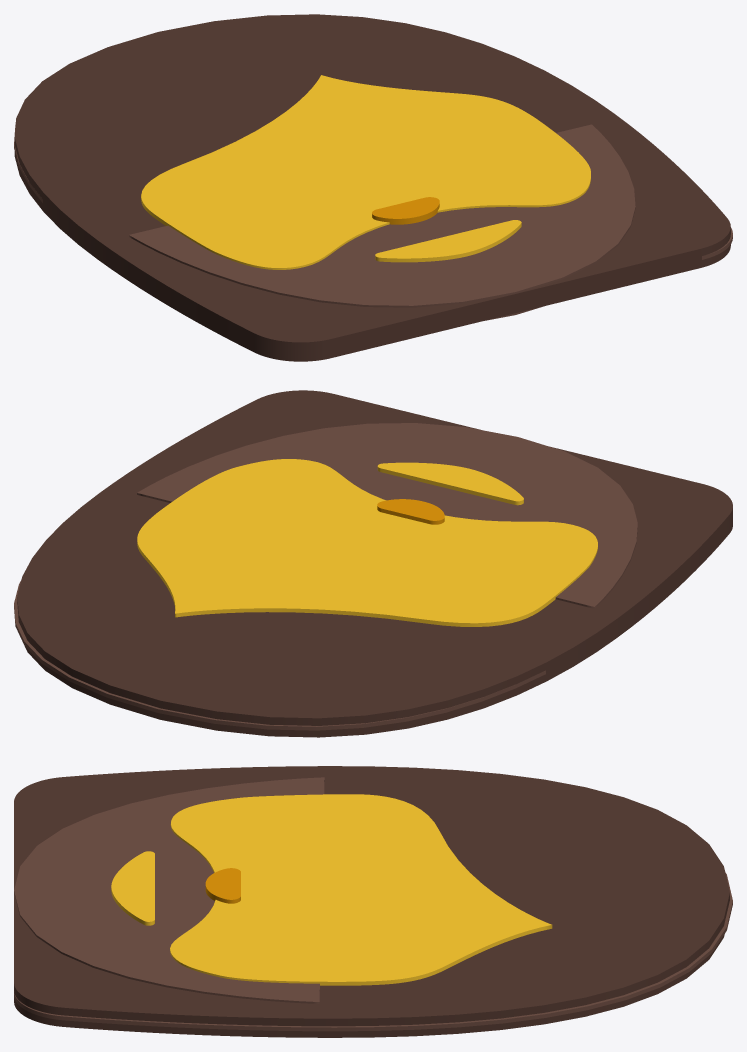
The model's file is emoji_u1f9d4_200d_2640.glb.
The picture shows the model from 3 angles, top to bottom: view 1: azimuth 30°, elevation 25°; view 2: azimuth 150°, elevation 25°; view 3: azimuth 270°, elevation 25°; orthographic projection.
Visible parts, largest first — view 1: emoji_u1f9d4_200d_2640; view 2: emoji_u1f9d4_200d_2640; view 3: emoji_u1f9d4_200d_2640.
Part boxes in pixels (x1,y1,x2,y2): emoji_u1f9d4_200d_2640: (14,14,732,361); emoji_u1f9d4_200d_2640: (14,390,732,737); emoji_u1f9d4_200d_2640: (14,766,732,1037).
Size of the model in its own units: 0.0283 by 0.0018 by 0.0339.
